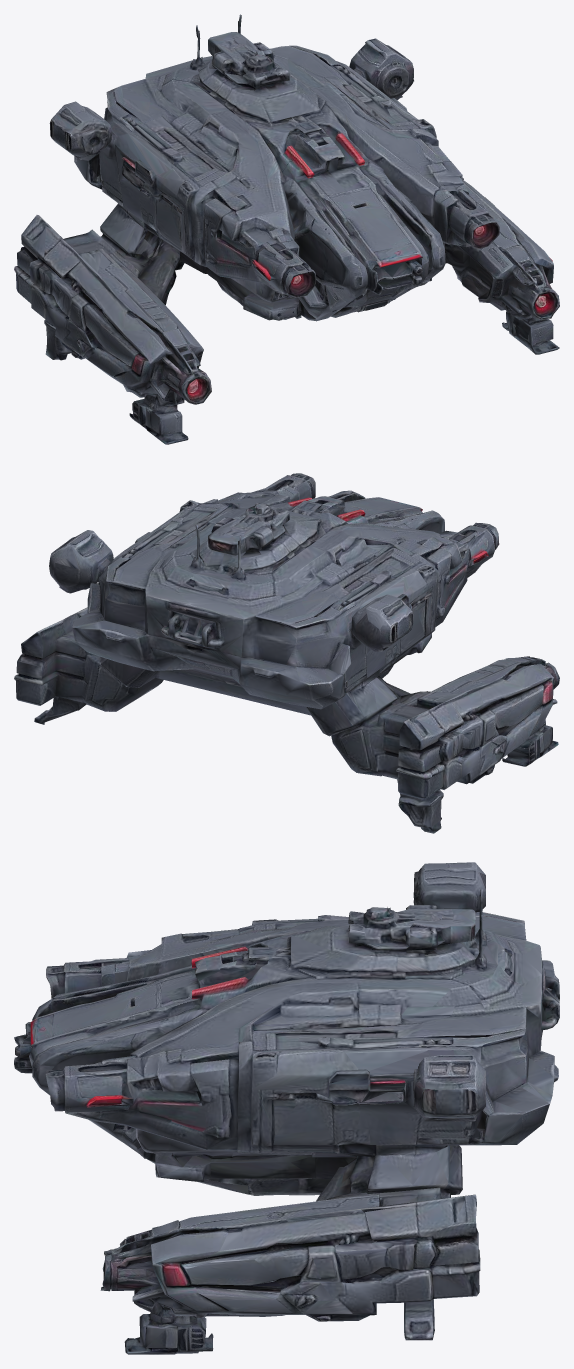
Rendered from t243_etur_lod0.glb.
The picture shows the model from 3 angles, top to bottom: view 1: azimuth 30°, elevation 25°; view 2: azimuth 150°, elevation 25°; view 3: azimuth 270°, elevation 25°; orthographic projection. The views are drawn at different scales.
Bounding box in the file's own units: 4.2 × 2.59 × 3.82.
Materials: 1 (1 with a texture image).
